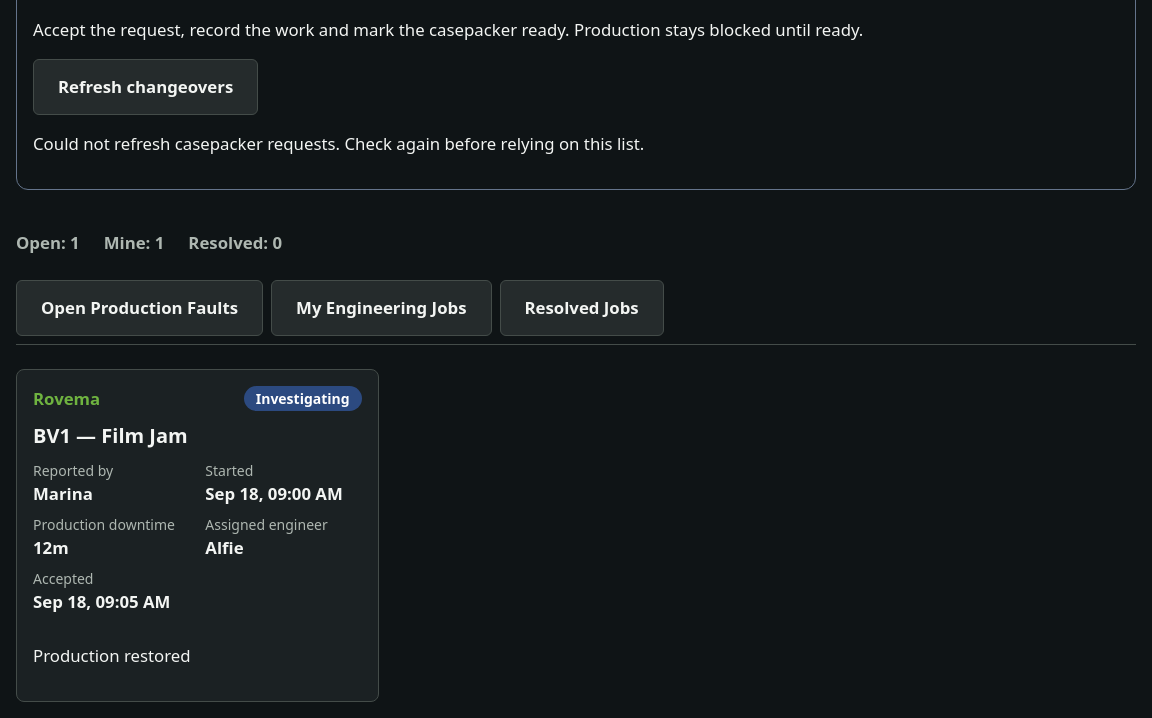
it: Engineering fault loading › keeps a restored production fault available for engineering work
The width and height of the screenshot is (1152, 718).
(page scrolled)
Expected: the text "Open: 1" is shown, 16,230 -> 80,256
Click the button with aria-label "BV1 - Film Jam, Rovema" at x=67, y=398, box 16,368 -> 379,702
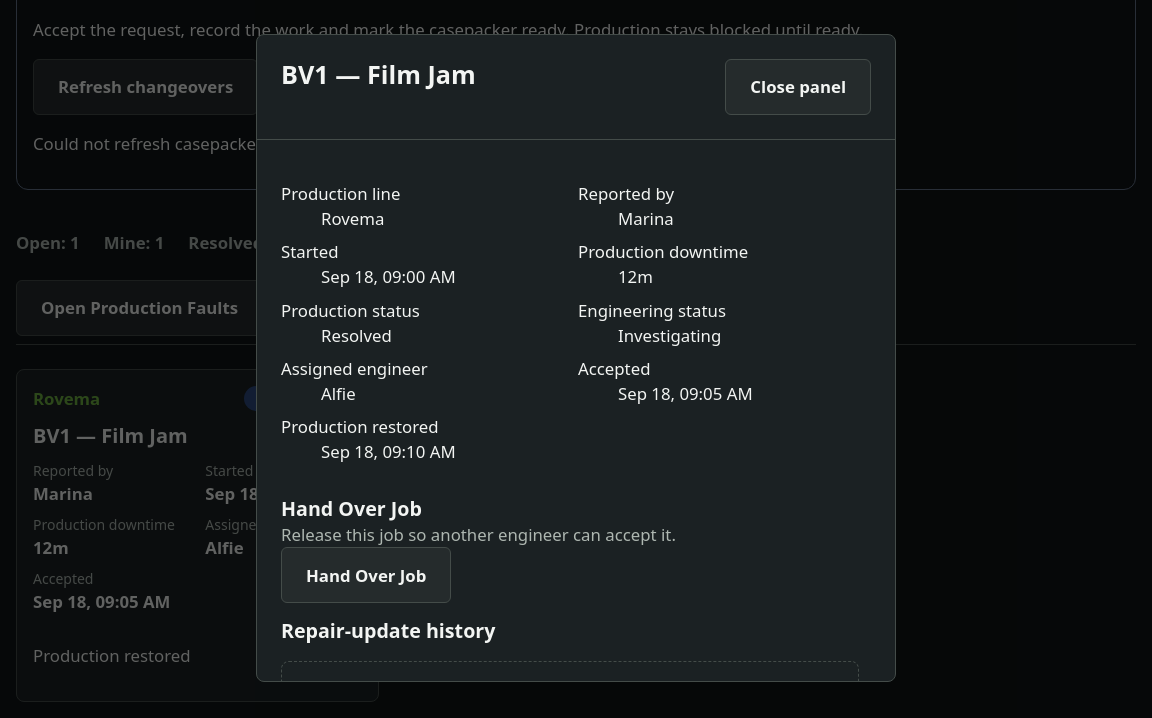
Now the button "Hand Over Job" is shown, box 281,547 -> 451,603
Now the text "Production restored" is shown, box 281,415 -> 439,438
